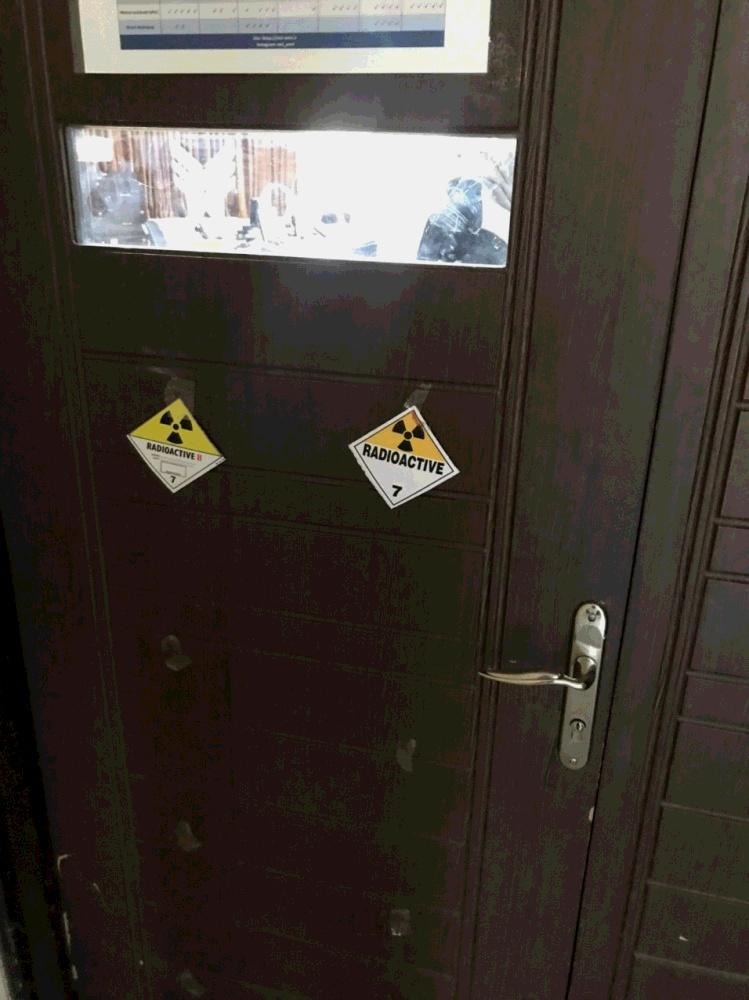radioactive: (348, 400, 461, 511), (128, 398, 225, 496)
